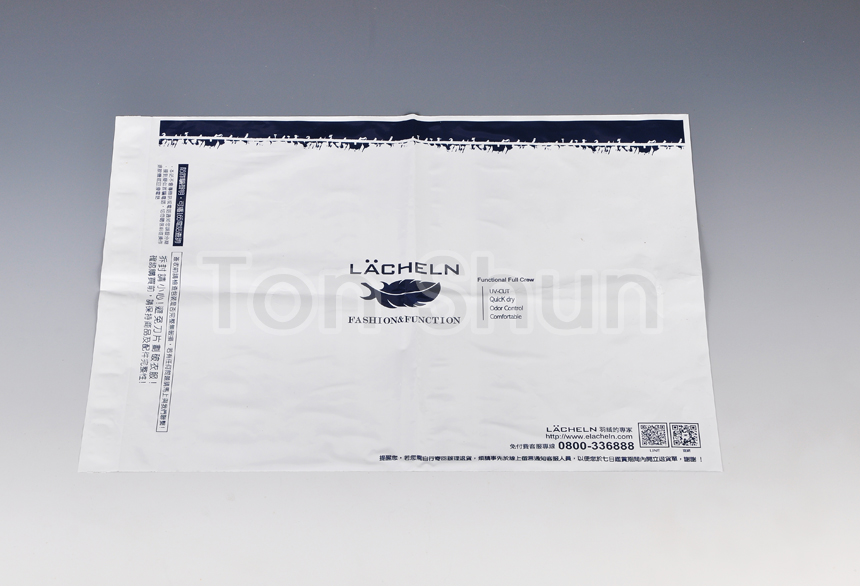Parcel: (81, 115, 719, 476)
